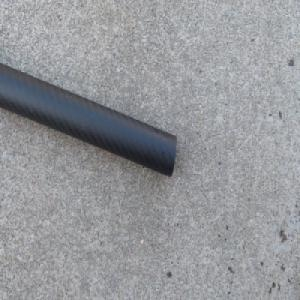LuggagePart: (0, 61, 178, 180)
